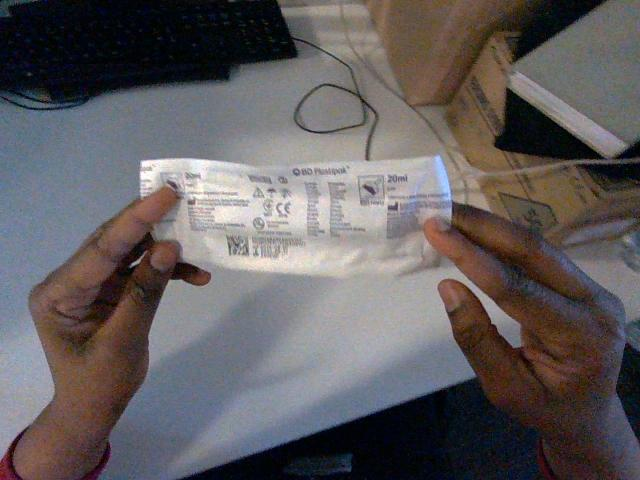syringe: (140, 156, 451, 276)
